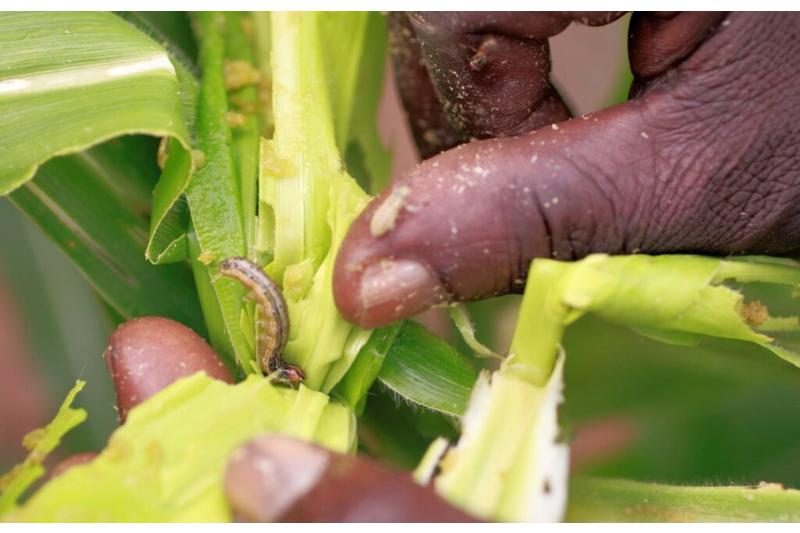fall-armyworm: (219, 257, 307, 390)
